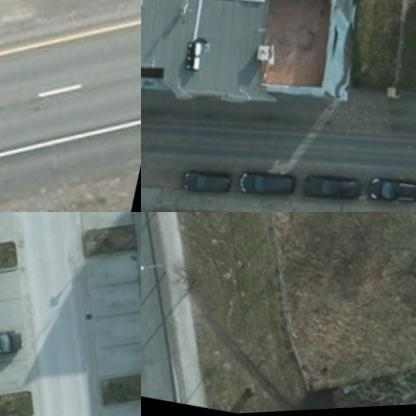car: (235, 160, 297, 202), (298, 164, 360, 206), (172, 162, 233, 198), (363, 170, 415, 211), (0, 317, 25, 364)
